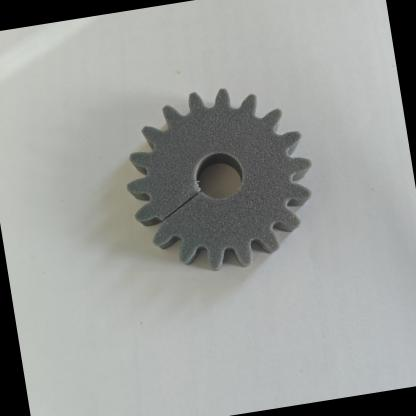defect: (108, 165, 224, 262)
gear: (86, 66, 339, 304)
